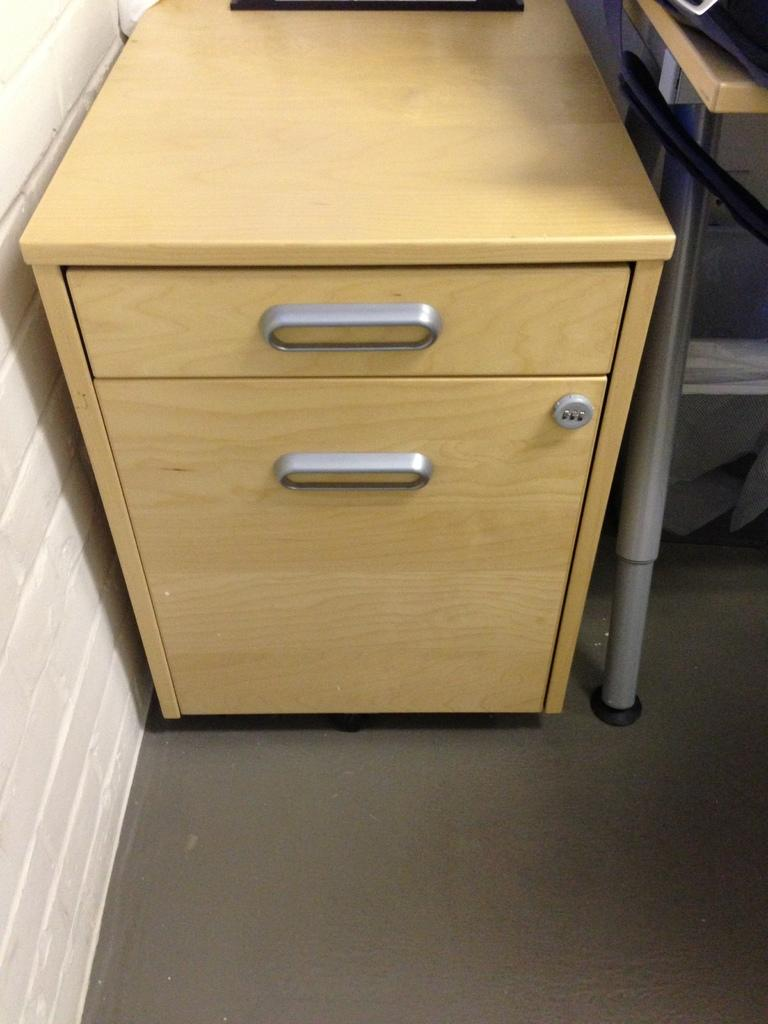cabinet_door: (169, 384, 546, 715), (76, 266, 612, 371)
handle: (262, 300, 439, 354), (270, 438, 431, 495)
